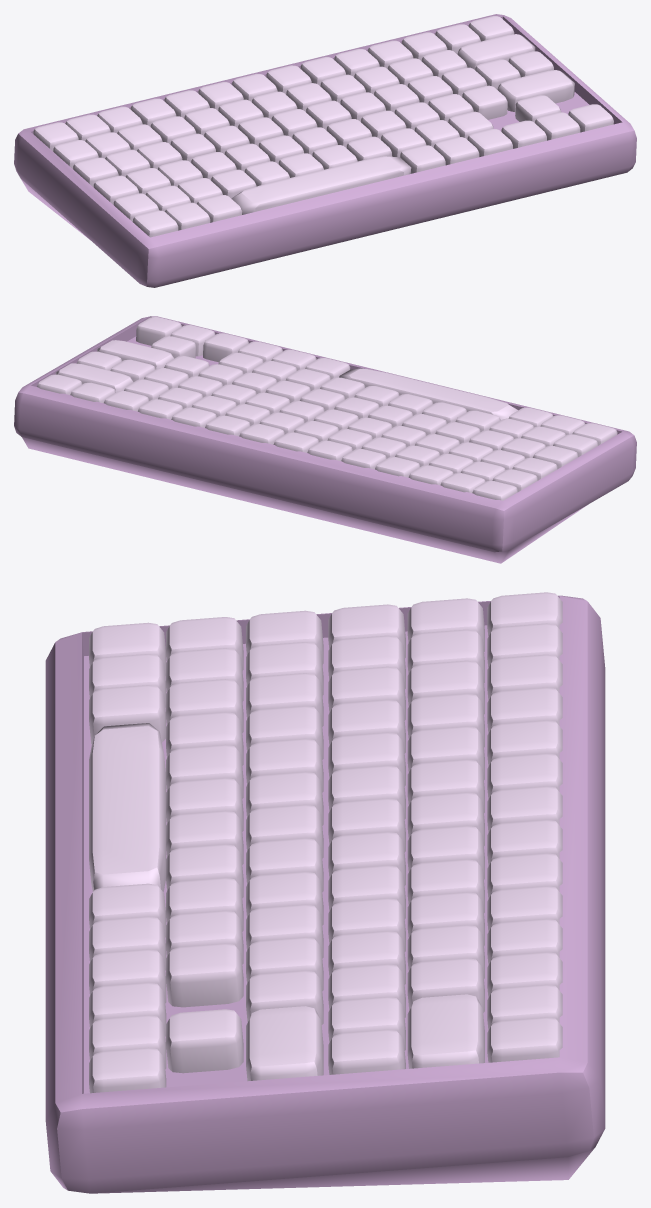
Rendered from keyboard.fbx.
3 views of the same model, one above another, from view 1: azimuth 30°, elevation 25°; view 2: azimuth 150°, elevation 25°; view 3: azimuth 270°, elevation 25° (orthographic). The views are drawn at different scales.
Visible parts, largest first — view 1: pCube11; view 2: pCube11; view 3: pCube11.
Part boxes in pixels (<box>): pCube11: <box>14,14,636,287</box>; pCube11: <box>14,316,636,563</box>; pCube11: <box>45,592,605,1193</box>.
Size of the model in its own units: 0.8107 by 0.1129 by 0.3964.
